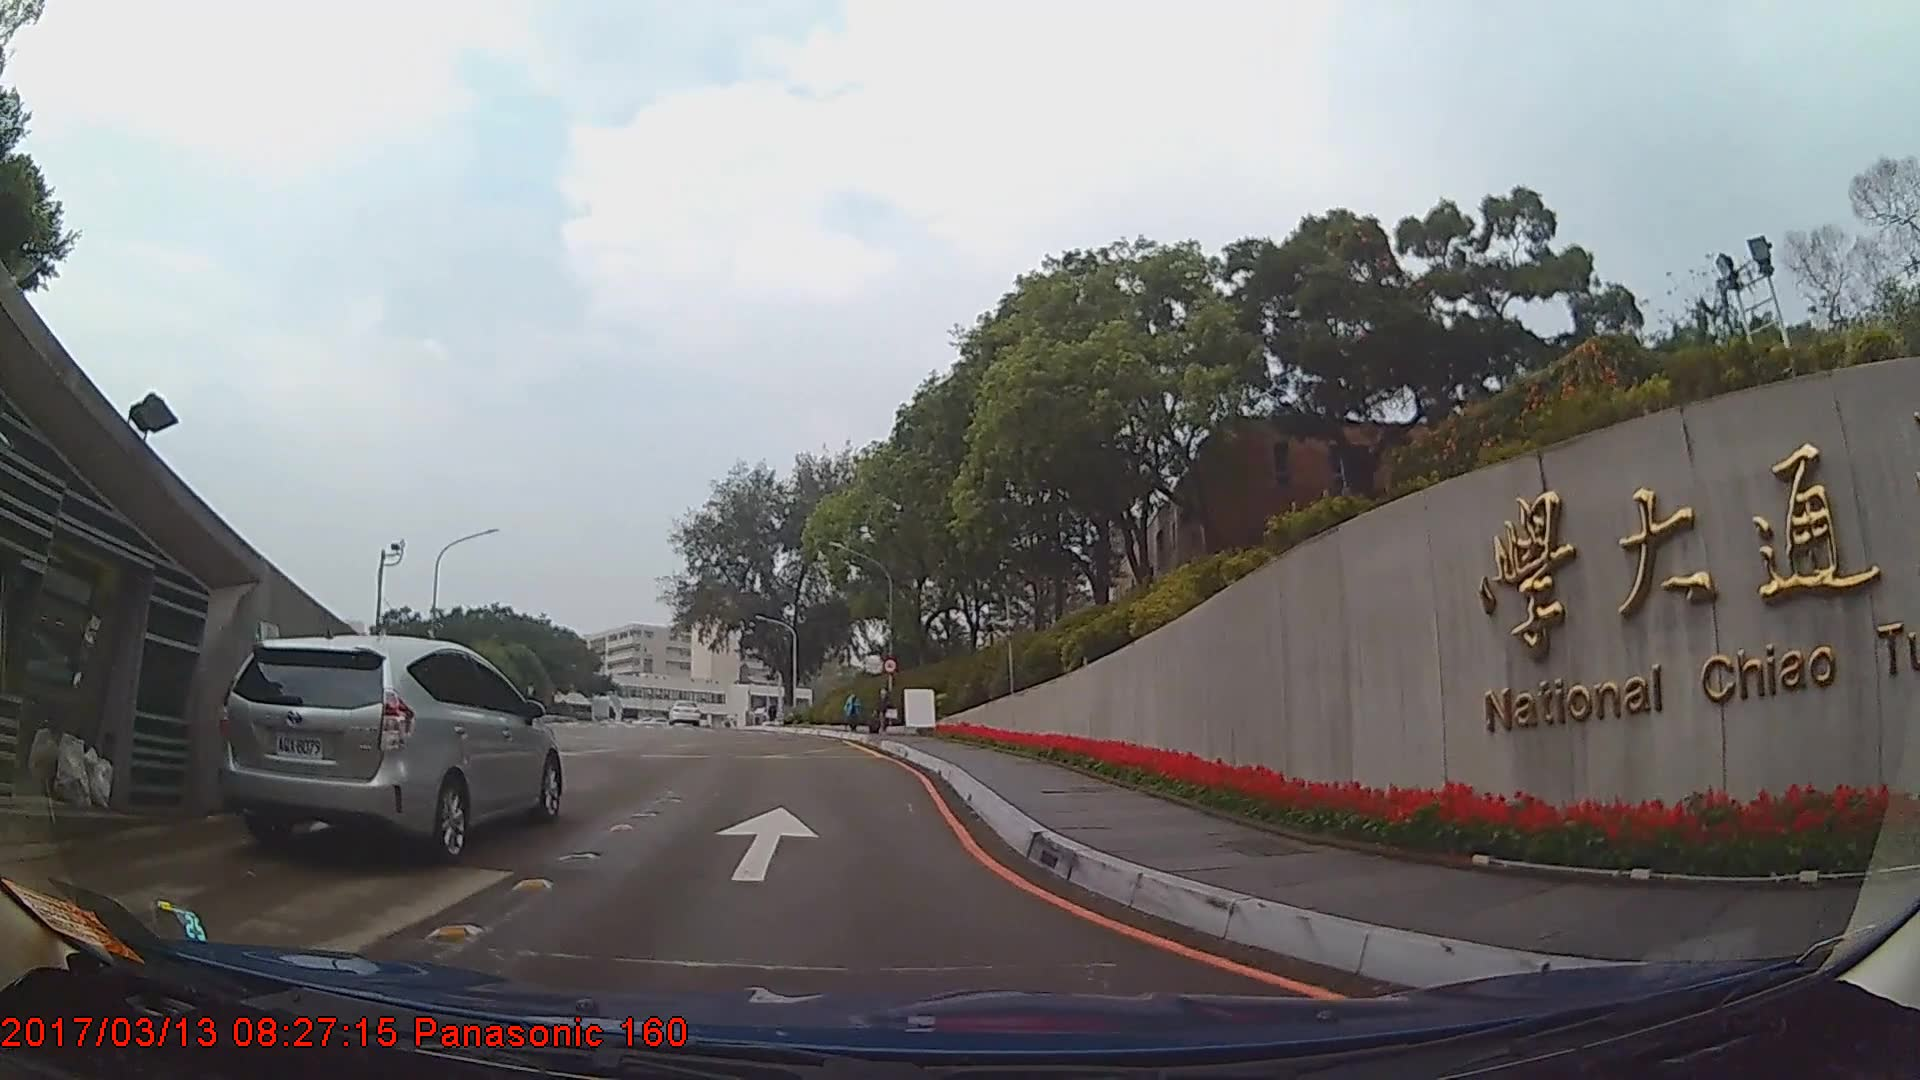pedestrian: (872, 687, 900, 736), (843, 693, 863, 736)
vehicle: (218, 632, 563, 866), (662, 695, 701, 724)
